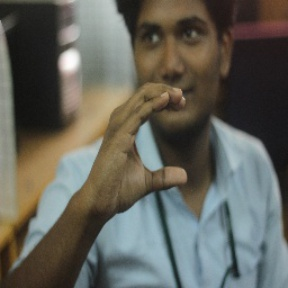C: (103, 73, 203, 202)
